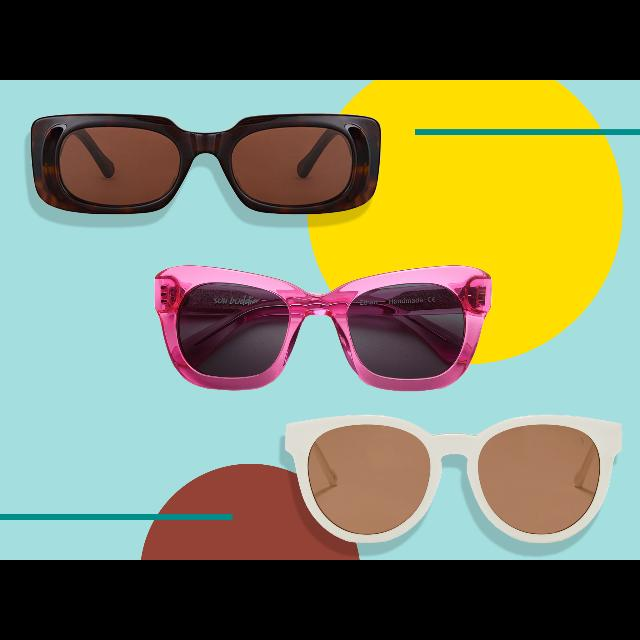Sunglasses: (148, 256, 500, 398), (272, 412, 630, 550), (28, 106, 386, 224)
